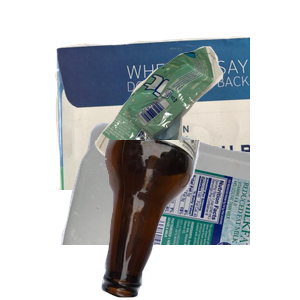glass: (99, 140, 300, 300)
paper: (52, 34, 292, 214)
plastic: (58, 120, 298, 300)
trash: (92, 44, 300, 211)
